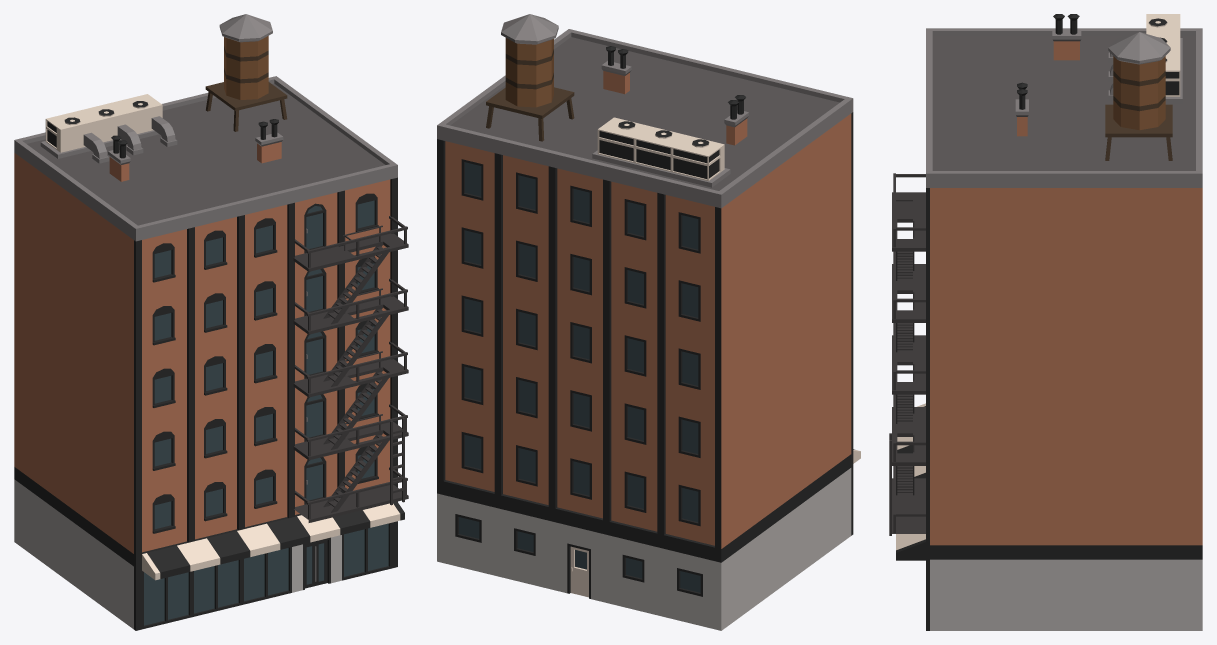
Rendered from buildings_building-block-5floor-front.fbx.
The picture shows the model from 3 angles, left to right: view 1: azimuth 30°, elevation 25°; view 2: azimuth 150°, elevation 25°; view 3: azimuth 270°, elevation 25°; orthographic projection. The views are drawn at different scales.
Visible parts, largest first — view 1: buildings_building_block_5floor_front; view 2: buildings_building_block_5floor_front; view 3: buildings_building_block_5floor_front.
Part boxes in pixels (bbox=[...]): buildings_building_block_5floor_front: bbox=[14, 14, 408, 630]; buildings_building_block_5floor_front: bbox=[437, 14, 860, 630]; buildings_building_block_5floor_front: bbox=[889, 14, 1202, 630].
Bounding box in the file's own units: 110 × 200 × 100.
